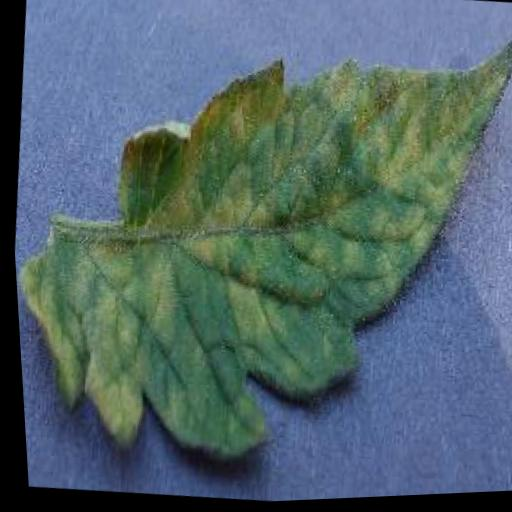Leaf Mold: (1, 0, 512, 502)
